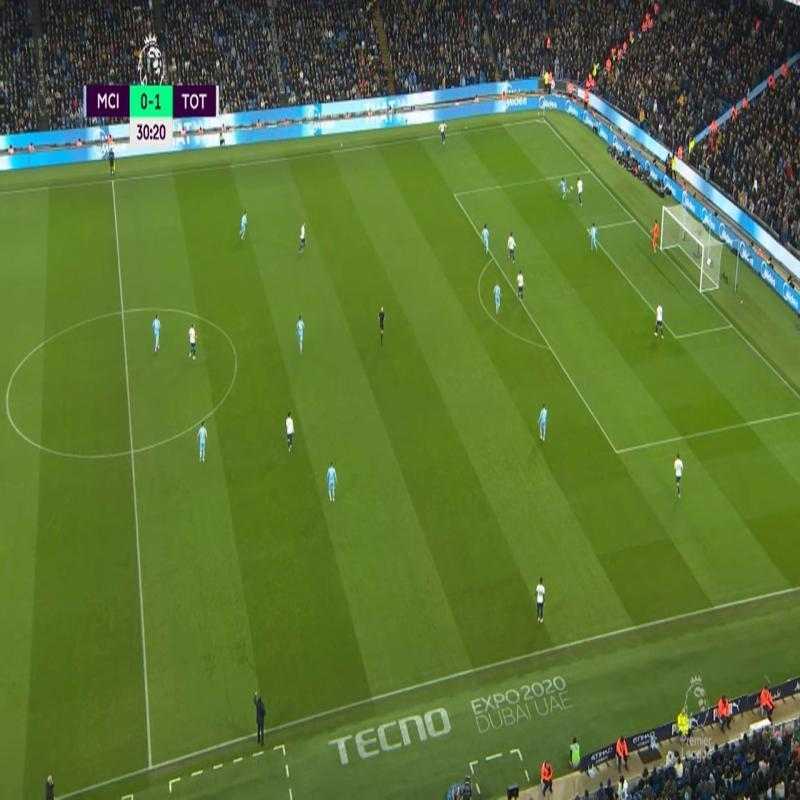1: (535, 112, 552, 126)
10: (485, 251, 500, 264)
11: (546, 340, 562, 356)
12: (609, 444, 625, 460)
13: (107, 172, 119, 190)
14: (115, 302, 131, 318)
15: (124, 442, 140, 459)
16: (141, 759, 160, 779)
2: (584, 159, 596, 182)
3: (632, 212, 640, 228)
4: (723, 318, 739, 334)
7: (582, 219, 594, 243)
8: (669, 327, 684, 342)
9: (447, 187, 462, 201)
c: (1, 394, 17, 412), (230, 348, 245, 362)
